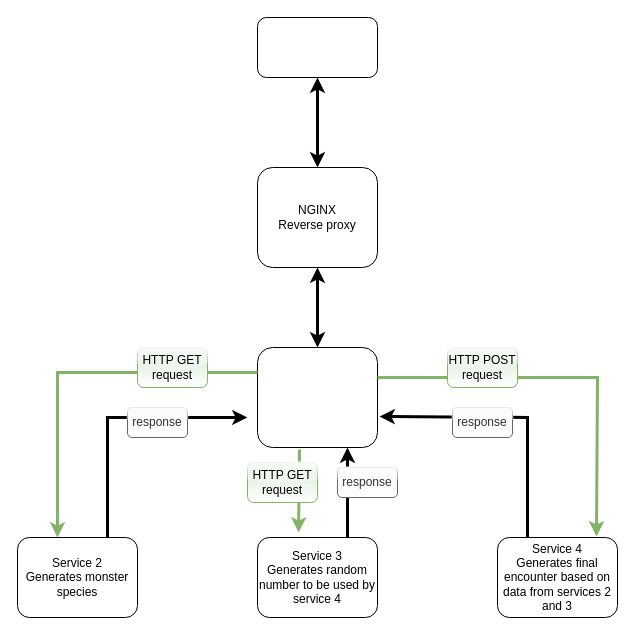
Image size: 635x635. Some labels were removed from this diagram. The box of each missing label's shape, as (x1, y1, x2, y2) in pixels:
Browser: (256, 16, 378, 78)
Front End Sends requests and displays data: (256, 346, 378, 448)
